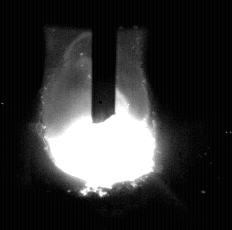arame: (92, 0, 116, 124)
poca: (43, 0, 156, 230)
